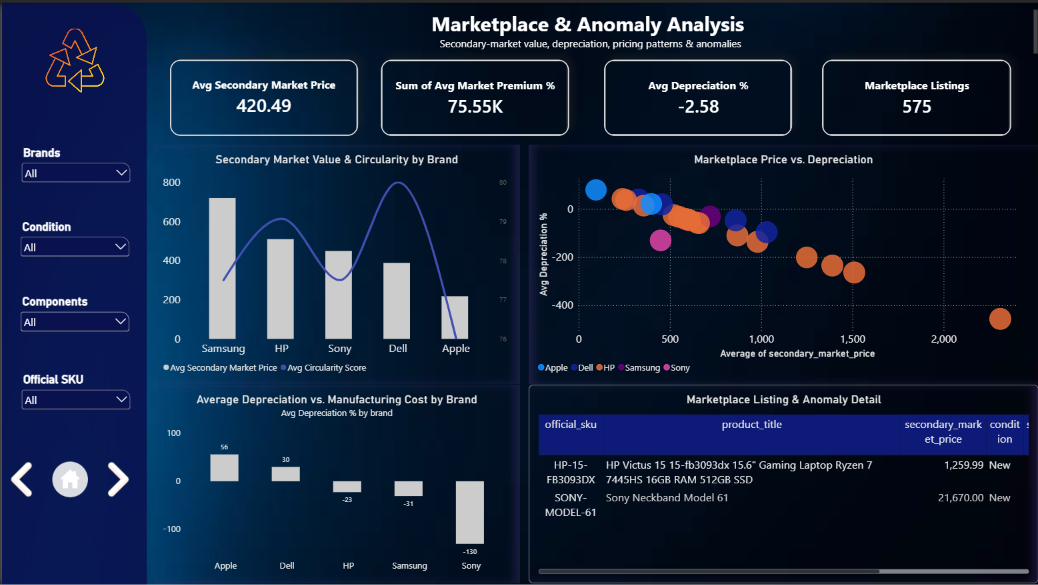

Layout of this report page (visuals, bound fields, positions):
{"tool":"powerbi","page":{"name":"Marketplace & Anomaly Analysis","canvas":[1920,1080],"ordinal":3},"visuals":[{"type":"shape","box":[0,0,268.6,1080.7],"z":0},{"type":"lineStackedColumnComboChart","title":"Secondary Market Value & Circularity by Brand","fields":{"Category":["marketplace_product_health.brand"],"Y":["marketplace_product_health.Avg Secondary Market Price"],"Y2":["marketplace_product_health.Avg Circularity Score"]},"box":[282,264,678,444],"z":1000},{"type":"scatterChart","title":"Marketplace Price vs. Depreciation","fields":{"Category":["marketplace_product_health.official_sku"],"Series":["marketplace_product_health.brand"],"Size":["marketplace_product_health.Avg Circularity Score"],"X":["Avg(marketplace_product_health.secondary_market_price)"],"Y":["marketplace_product_health.Avg Depreciation %"]},"box":[976,264,944,444],"z":2000},{"type":"clusteredColumnChart","title":"Average Depreciation vs. Manufacturing Cost by Brand","fields":{"Category":["marketplace_product_health.brand"],"Y":["marketplace_product_health.Avg Depreciation %"]},"box":[282,708,678,368],"z":3000},{"type":"tableEx","title":"Marketplace Listing & Anomaly Detail","fields":{"Values":["marketplace_product_health.official_sku","marketplace_product_health.product_title","marketplace_product_health.secondary_market_price","marketplace_product_health.condition","marketplace_product_health.secondary_market_depreciation_pct","marketplace_product_health.Marketplace Anomaly Flag"]},"box":[976,708,944,368],"z":4000},{"type":"cardVisual","fields":{"Data":["marketplace_product_health.Avg Secondary Market Price"]},"box":[311.8,106.5,348.6,141.4],"z":5000},{"type":"cardVisual","fields":{"Data":["Sum(marketplace_product_health.Avg Market Premium %)"]},"box":[703.1,106.5,348.6,141.4],"z":6000},{"type":"cardVisual","fields":{"Data":["marketplace_product_health.Avg Depreciation %"]},"box":[1115.6,106.5,348.6,141.4],"z":7000},{"type":"cardVisual","fields":{"Data":["Count(marketplace_product_health.listing_url)"]},"box":[1520.4,106.5,350.6,141.4],"z":8000},{"type":"textbox","box":[268.6,12.4,1651,95.1],"z":9000},{"type":"slicer","fields":{"Values":["marketplace_product_health.brand"]},"box":[31,264.5,211.2,68.1],"z":10000},{"type":"slicer","fields":{"Values":["marketplace_product_health.condition"]},"box":[28.9,402.9,211.2,72.7],"z":11000},{"type":"slicer","fields":{"Values":["marketplace_product_health.official_sku"]},"box":[31,686,211.2,72.7],"z":12000},{"type":"slicer","fields":{"Values":["marketplace_product_health.component"]},"box":[28.9,541.4,211.2,72.7],"z":13000},{"type":"image","box":[72.3,47.5,126,117.8],"z":14000},{"type":"image","box":[0,840,72,88],"z":15000},{"type":"image","box":[180,840,72,88],"z":16000},{"type":"image","box":[72,840,108,88],"z":17000}]}

Visuals, with their boxes on the page's 1920x1080 design canvas (x1, y1, x2, y2). These are canvas units, not pixel positions in the 1038x585 screenshot, which may show the page scaled, cropped or inside an application window:
shape: pyautogui.locateOnScreen(0, 0, 269, 1081)
"Secondary Market Value & Circularity by Brand" lineStackedColumnComboChart: pyautogui.locateOnScreen(282, 264, 960, 708)
"Marketplace Price vs. Depreciation" scatterChart: pyautogui.locateOnScreen(976, 264, 1920, 708)
"Average Depreciation vs. Manufacturing Cost by Brand" clusteredColumnChart: pyautogui.locateOnScreen(282, 708, 960, 1076)
"Marketplace Listing & Anomaly Detail" tableEx: pyautogui.locateOnScreen(976, 708, 1920, 1076)
cardVisual - marketplace_product_health.Avg Secondary Market Price: pyautogui.locateOnScreen(312, 106, 660, 248)
cardVisual - Sum(marketplace_product_health.Avg Market Premium %): pyautogui.locateOnScreen(703, 106, 1052, 248)
cardVisual - marketplace_product_health.Avg Depreciation %: pyautogui.locateOnScreen(1116, 106, 1464, 248)
cardVisual - Count(marketplace_product_health.listing_url): pyautogui.locateOnScreen(1520, 106, 1871, 248)
textbox: pyautogui.locateOnScreen(269, 12, 1920, 108)
slicer - marketplace_product_health.brand: pyautogui.locateOnScreen(31, 264, 242, 333)
slicer - marketplace_product_health.condition: pyautogui.locateOnScreen(29, 403, 240, 476)
slicer - marketplace_product_health.official_sku: pyautogui.locateOnScreen(31, 686, 242, 759)
slicer - marketplace_product_health.component: pyautogui.locateOnScreen(29, 541, 240, 614)
image: pyautogui.locateOnScreen(72, 48, 198, 165)
image: pyautogui.locateOnScreen(0, 840, 72, 928)
image: pyautogui.locateOnScreen(180, 840, 252, 928)
image: pyautogui.locateOnScreen(72, 840, 180, 928)
